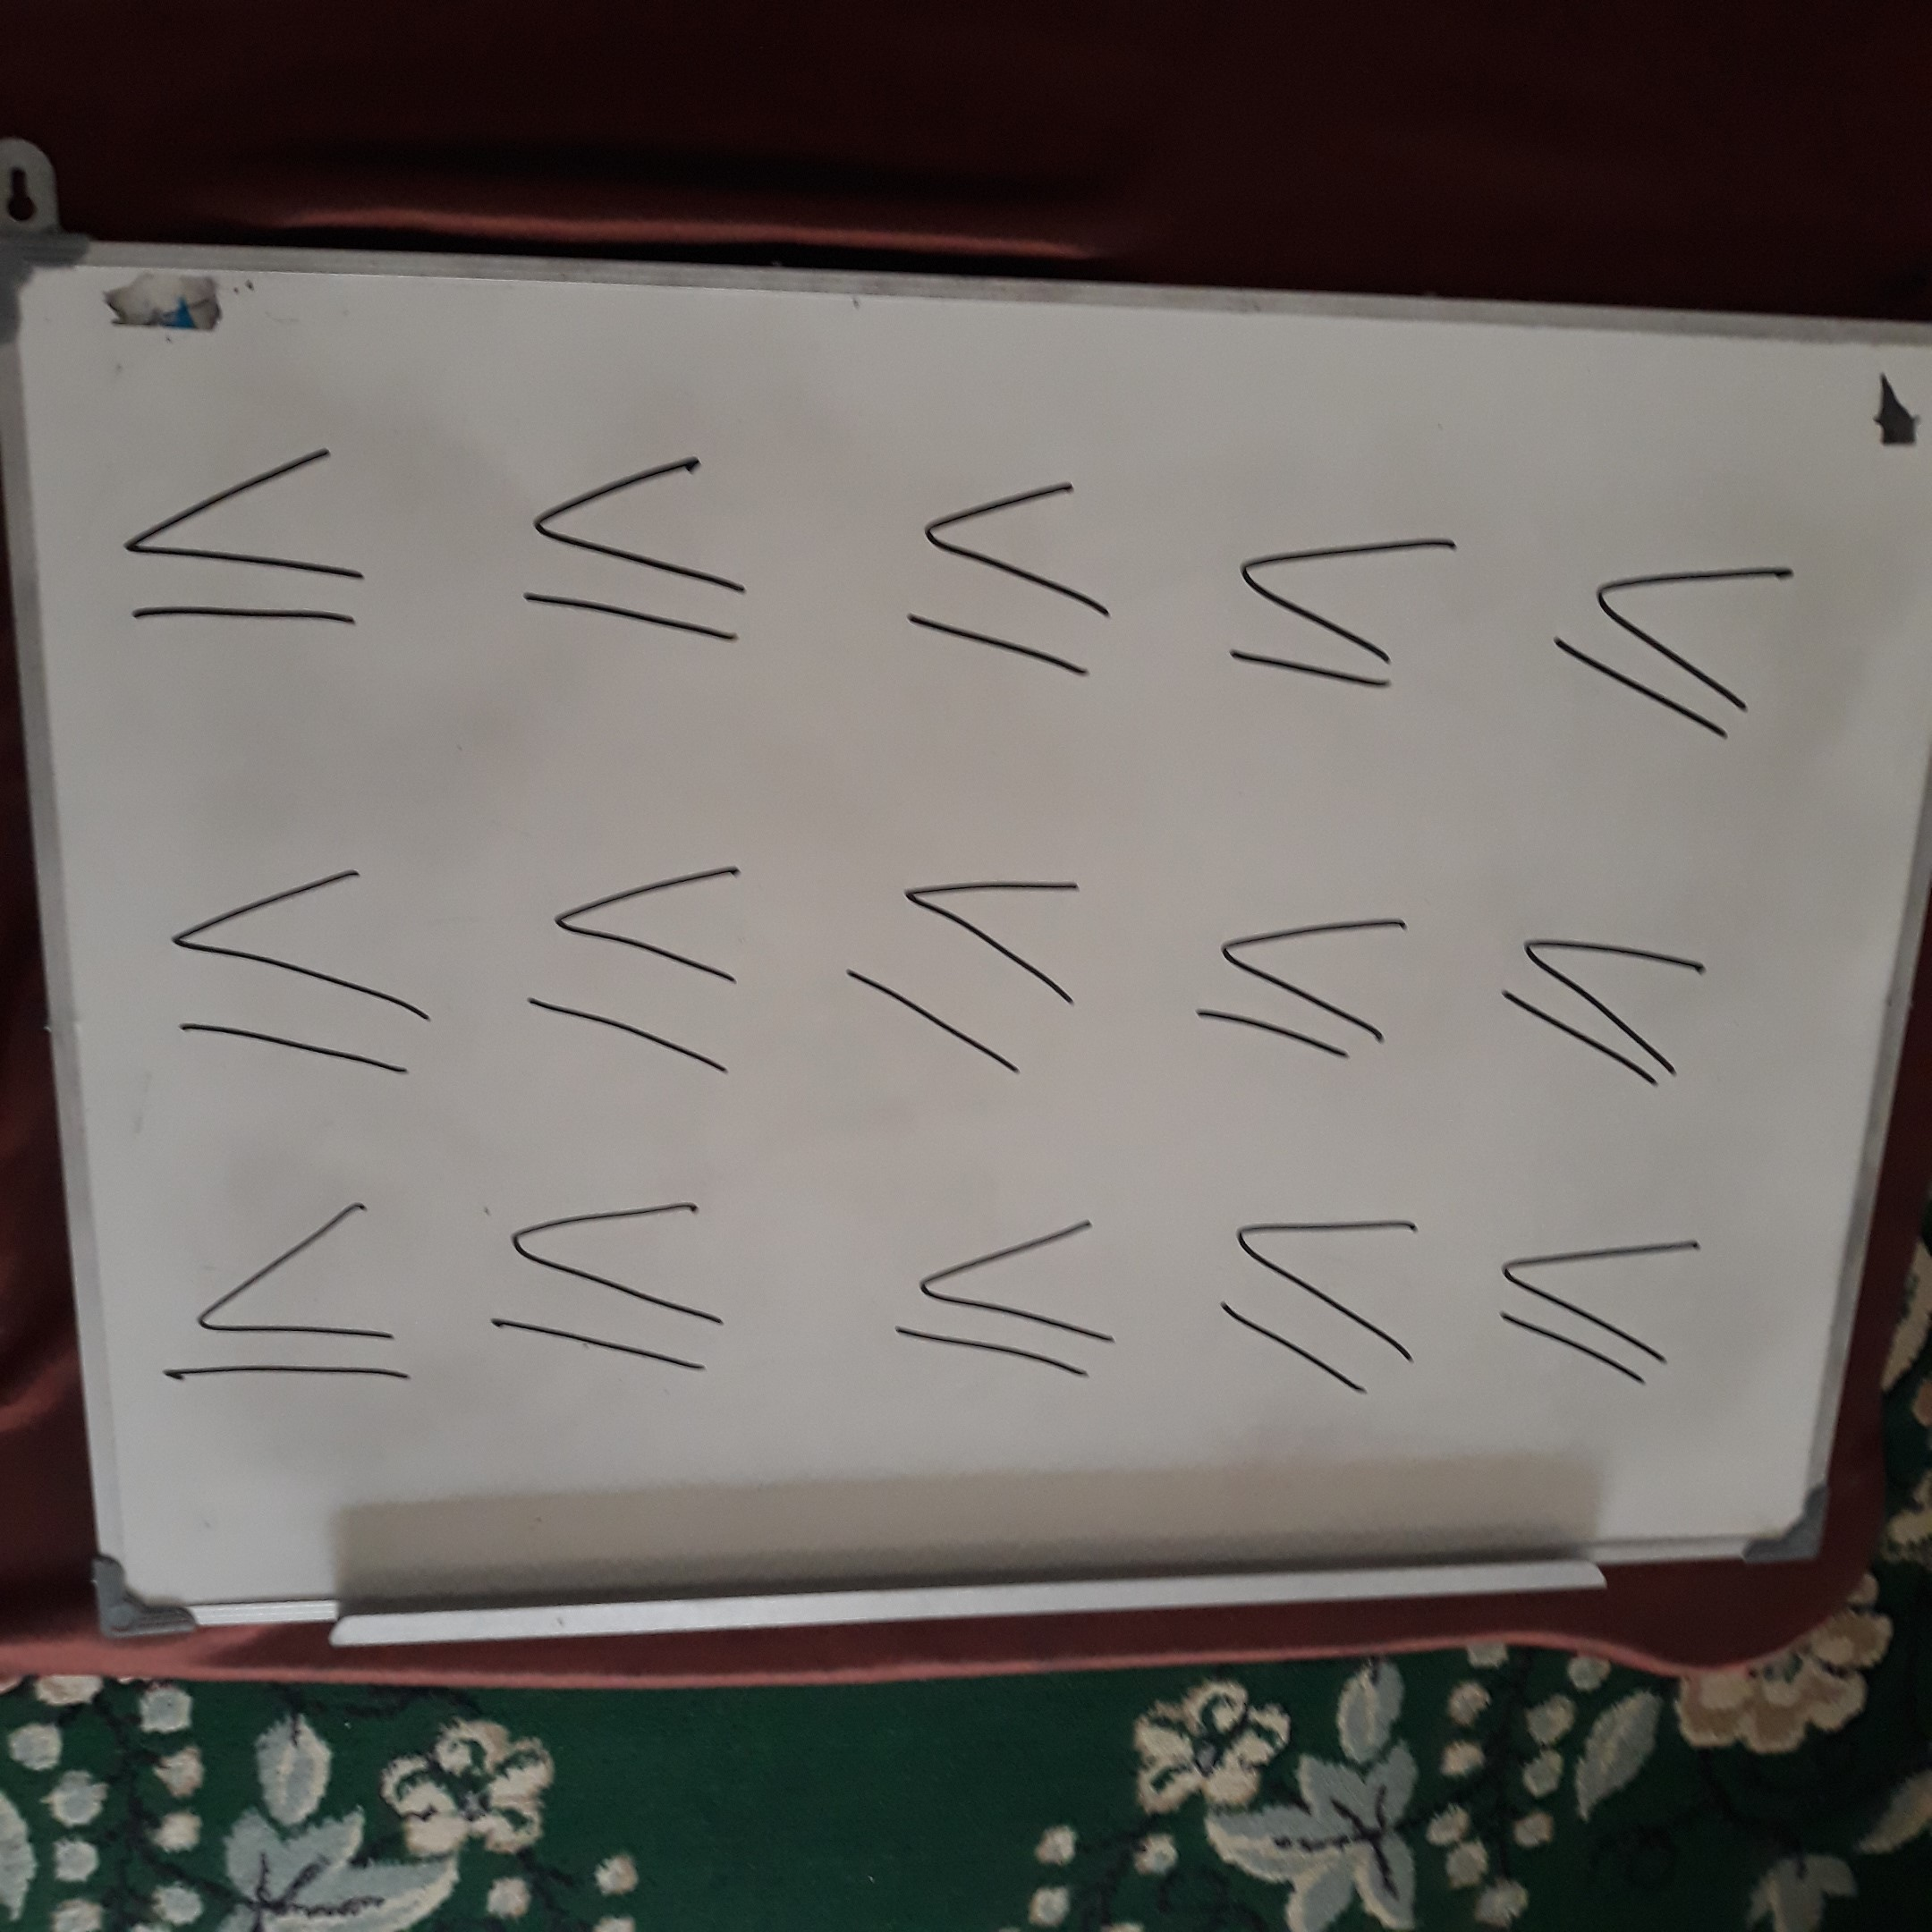lessthan-equal: (154, 851, 453, 1097), (505, 847, 805, 1093), (106, 428, 409, 663), (492, 428, 794, 663), (825, 850, 1102, 1082), (1527, 530, 1819, 748), (1193, 490, 1470, 715), (877, 460, 1142, 692), (476, 1175, 760, 1383), (1181, 1199, 1465, 1406), (148, 1191, 433, 1398), (856, 1191, 1140, 1398), (1179, 885, 1431, 1089), (1481, 898, 1733, 1102), (1493, 1208, 1710, 1402)
